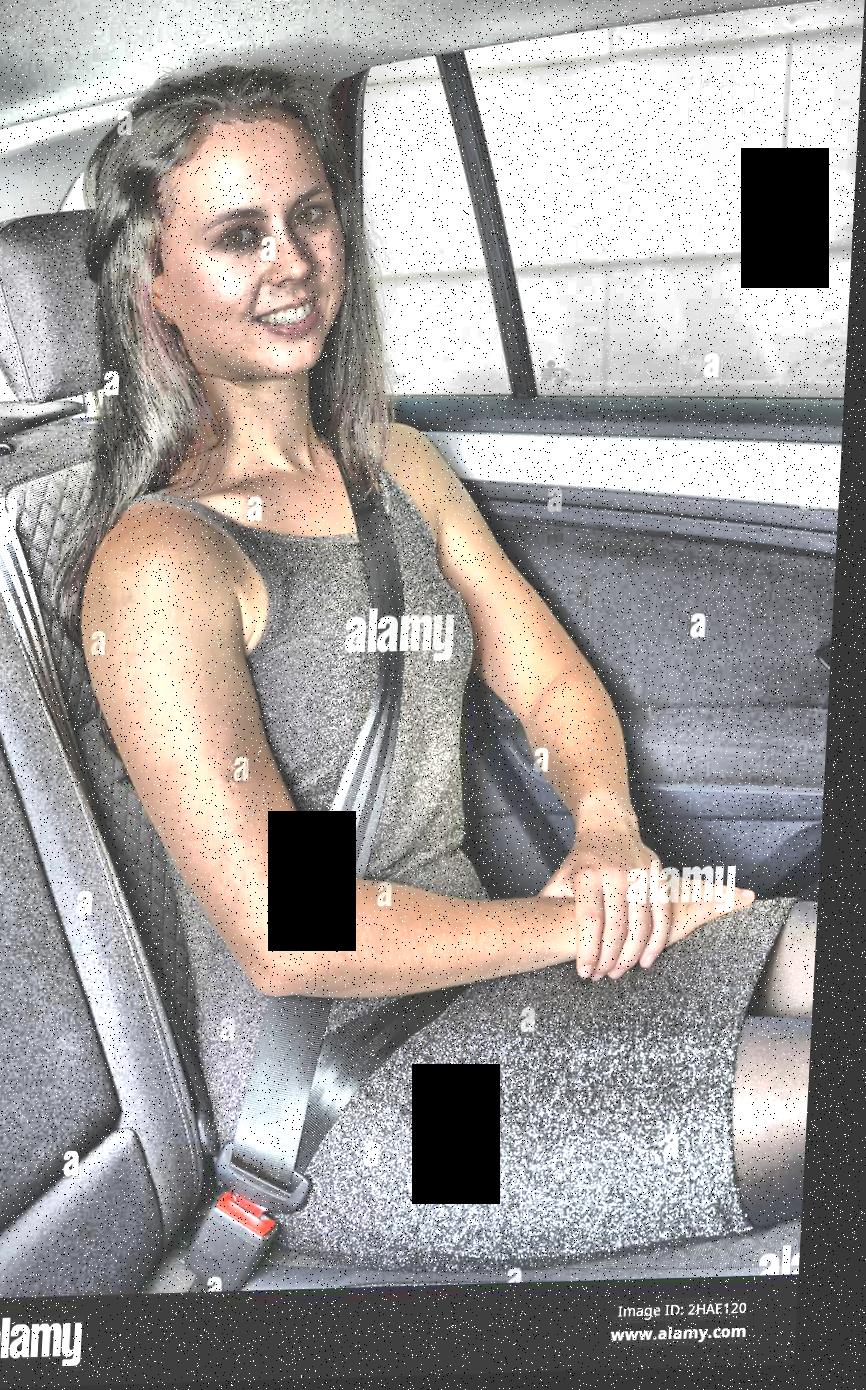seatbelt: (194, 388, 522, 1261)
